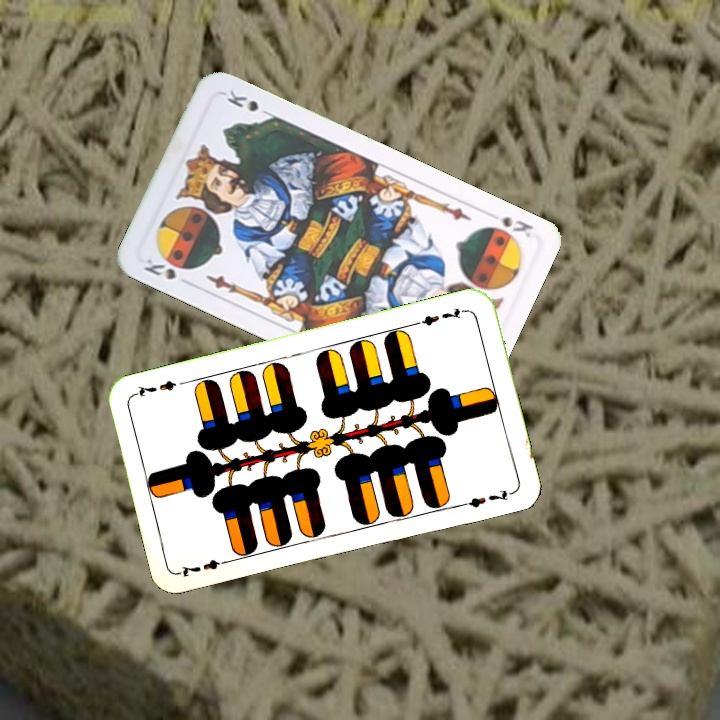E7: (176, 555, 234, 580), (412, 304, 470, 328)
SK: (139, 254, 179, 283), (496, 212, 536, 240)
